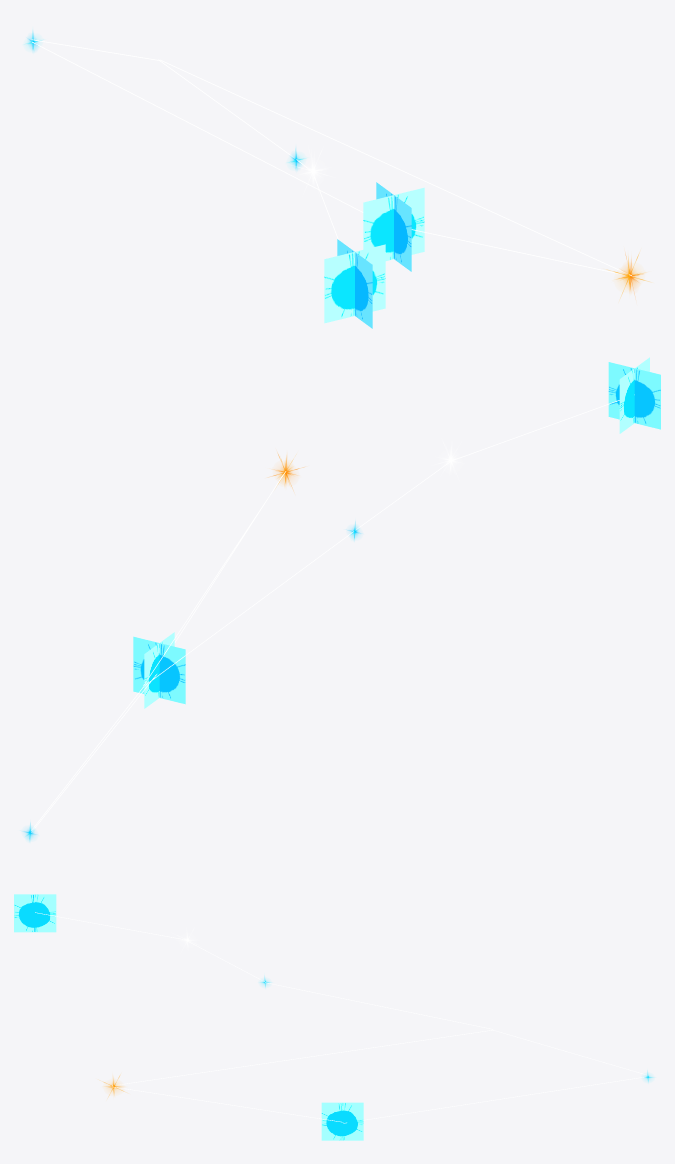
Rendered from ursa_major.glb.
3 renders of one model, top to bottom at view 1: azimuth 30°, elevation 25°; view 2: azimuth 150°, elevation 25°; view 3: azimuth 270°, elevation 25°, orthographic. The views are drawn at different scales.
Visible parts, largest first — view 1: star_blue_1.007, star_blue_1.006, Ursa Major_line; view 2: star_blue_1.007, star_blue_1.006, Ursa Major_line; view 3: Ursa Major_line, star_blue_1.006, star_blue_1.007.
Boxes of the visible parts, <box> form: star_blue_1.007: <box>324,239,385,328</box>; star_blue_1.006: <box>363,182,424,271</box>; Ursa Major_line: <box>31,39,633,276</box>; star_blue_1.007: <box>608,357,660,433</box>; star_blue_1.006: <box>133,632,185,708</box>; Ursa Major_line: <box>31,394,634,832</box>; Ursa Major_line: <box>35,912,647,1123</box>; star_blue_1.006: <box>321,1102,363,1140</box>; star_blue_1.007: <box>14,894,56,932</box>.
Size of the model in its own units: 3.61 by 2.3 by 8.41.
5 materials, 4 textured.
